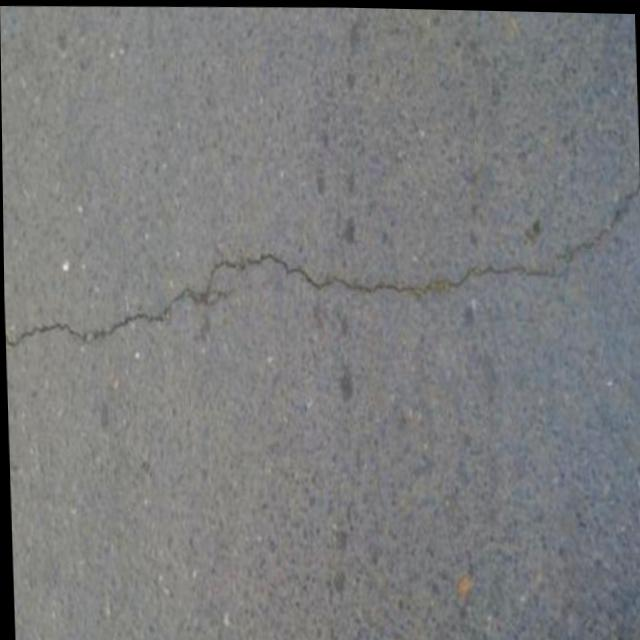Crack: (2, 169, 640, 369)
